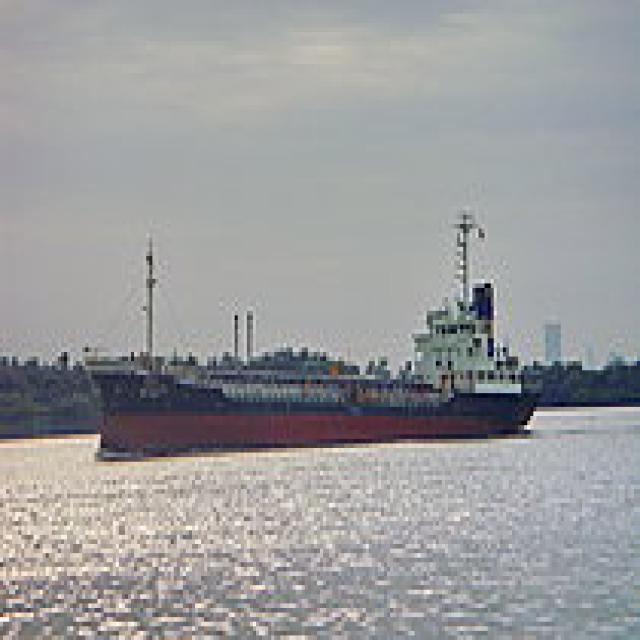Tanker: (70, 205, 549, 452)
